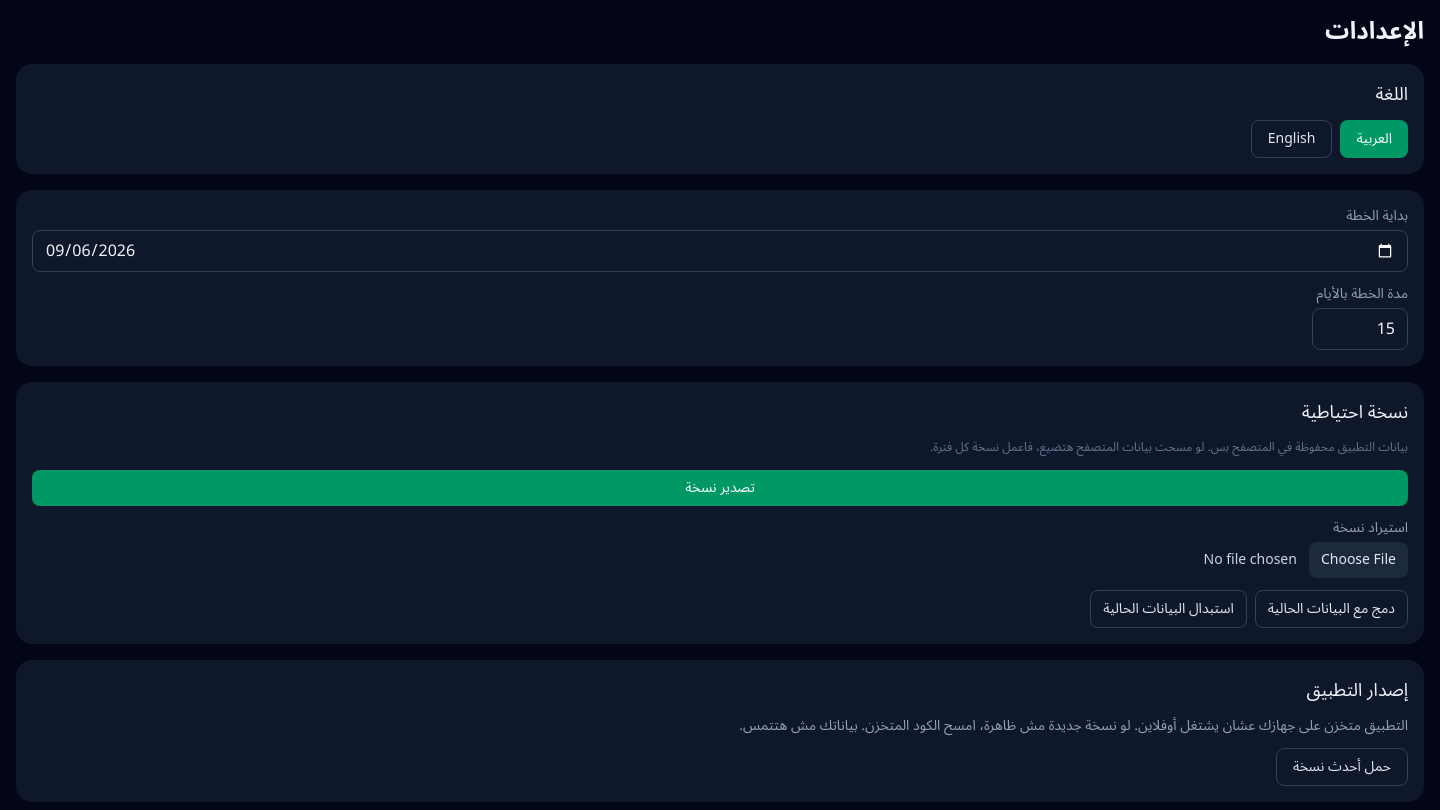
Scenario: SettingsScreen › switches the interface to English and back
Step 1. Click the button "English" → {"x": 1292, "y": 139}, box [1251,120,1332,158]
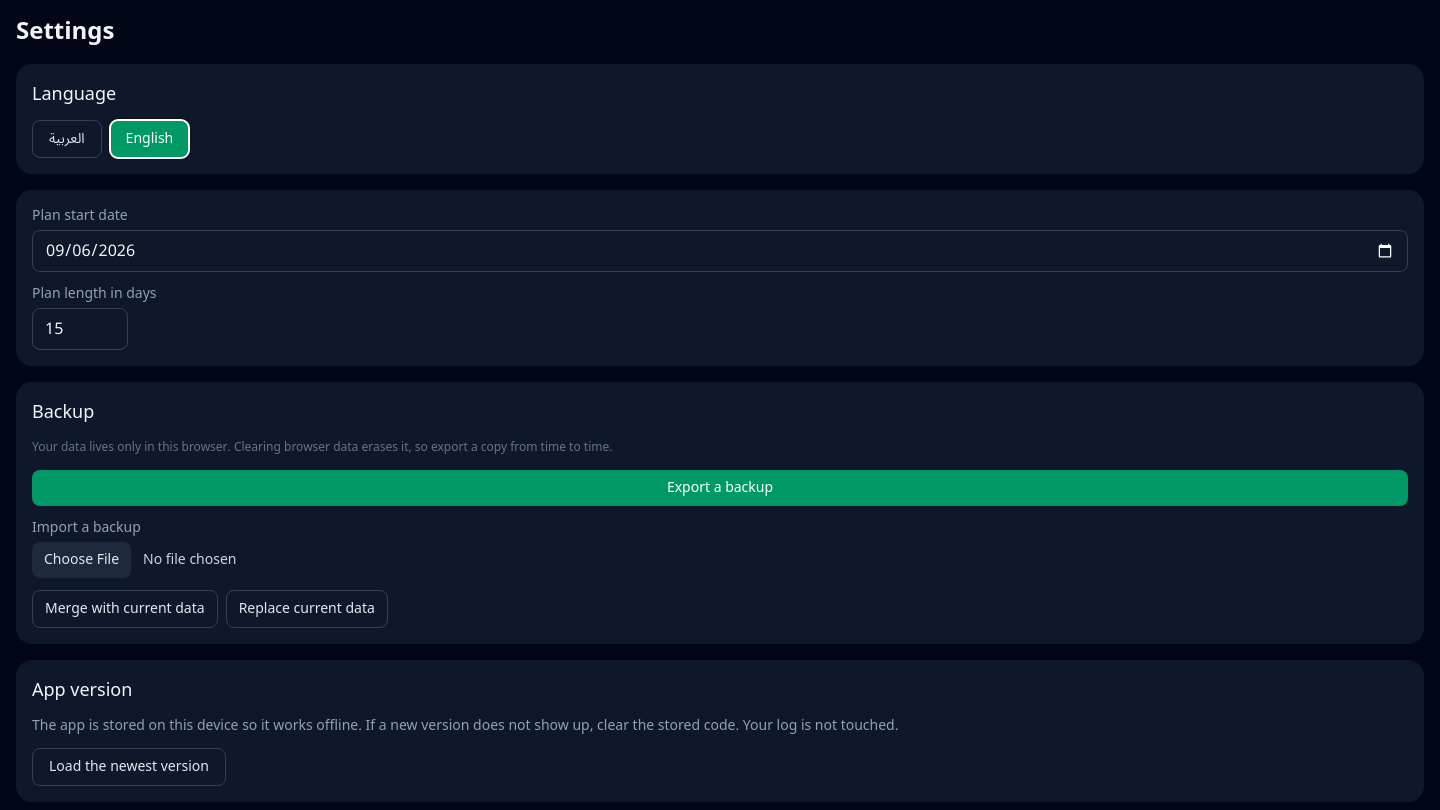
Check: the heading "Settings" is shown, box [16,6,114,57]
Step 2. Click the button "العربية" → {"x": 67, "y": 139}, box [32,120,102,158]
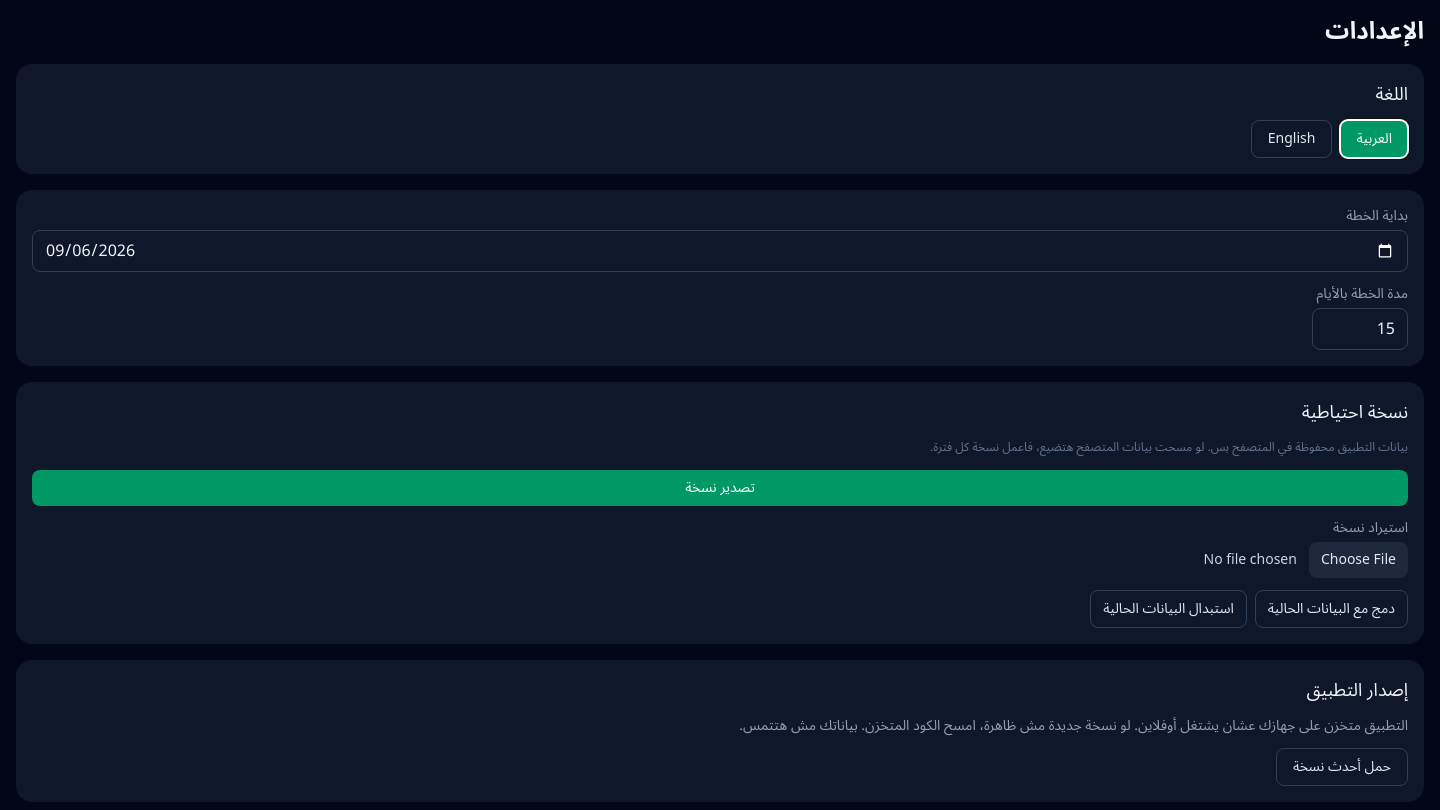
Check: the heading "الإعدادات" is shown, box [1325,6,1424,57]
